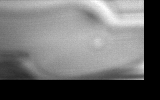cell: (88, 34, 107, 53)
